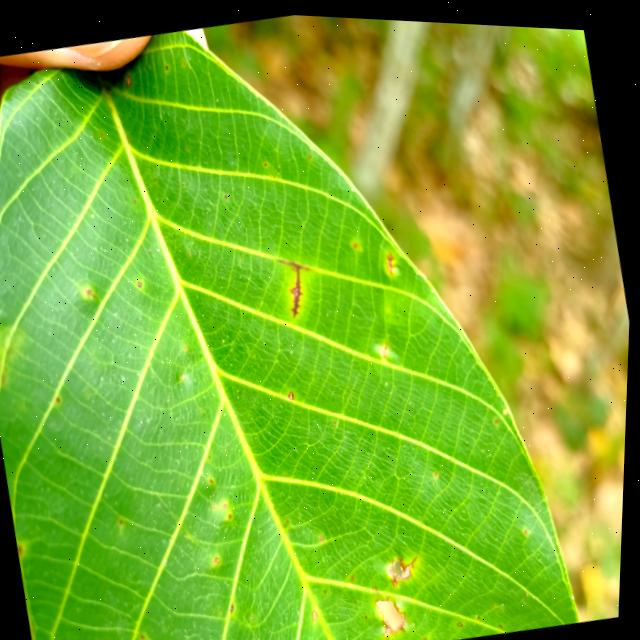Colletotrichum: (290, 386, 298, 396), (315, 606, 323, 616), (218, 553, 226, 561), (460, 615, 468, 621), (139, 279, 145, 285), (323, 530, 328, 537), (227, 499, 232, 506), (232, 509, 237, 516), (355, 570, 360, 575), (135, 197, 139, 201)
Corynespora: (278, 249, 323, 315)
